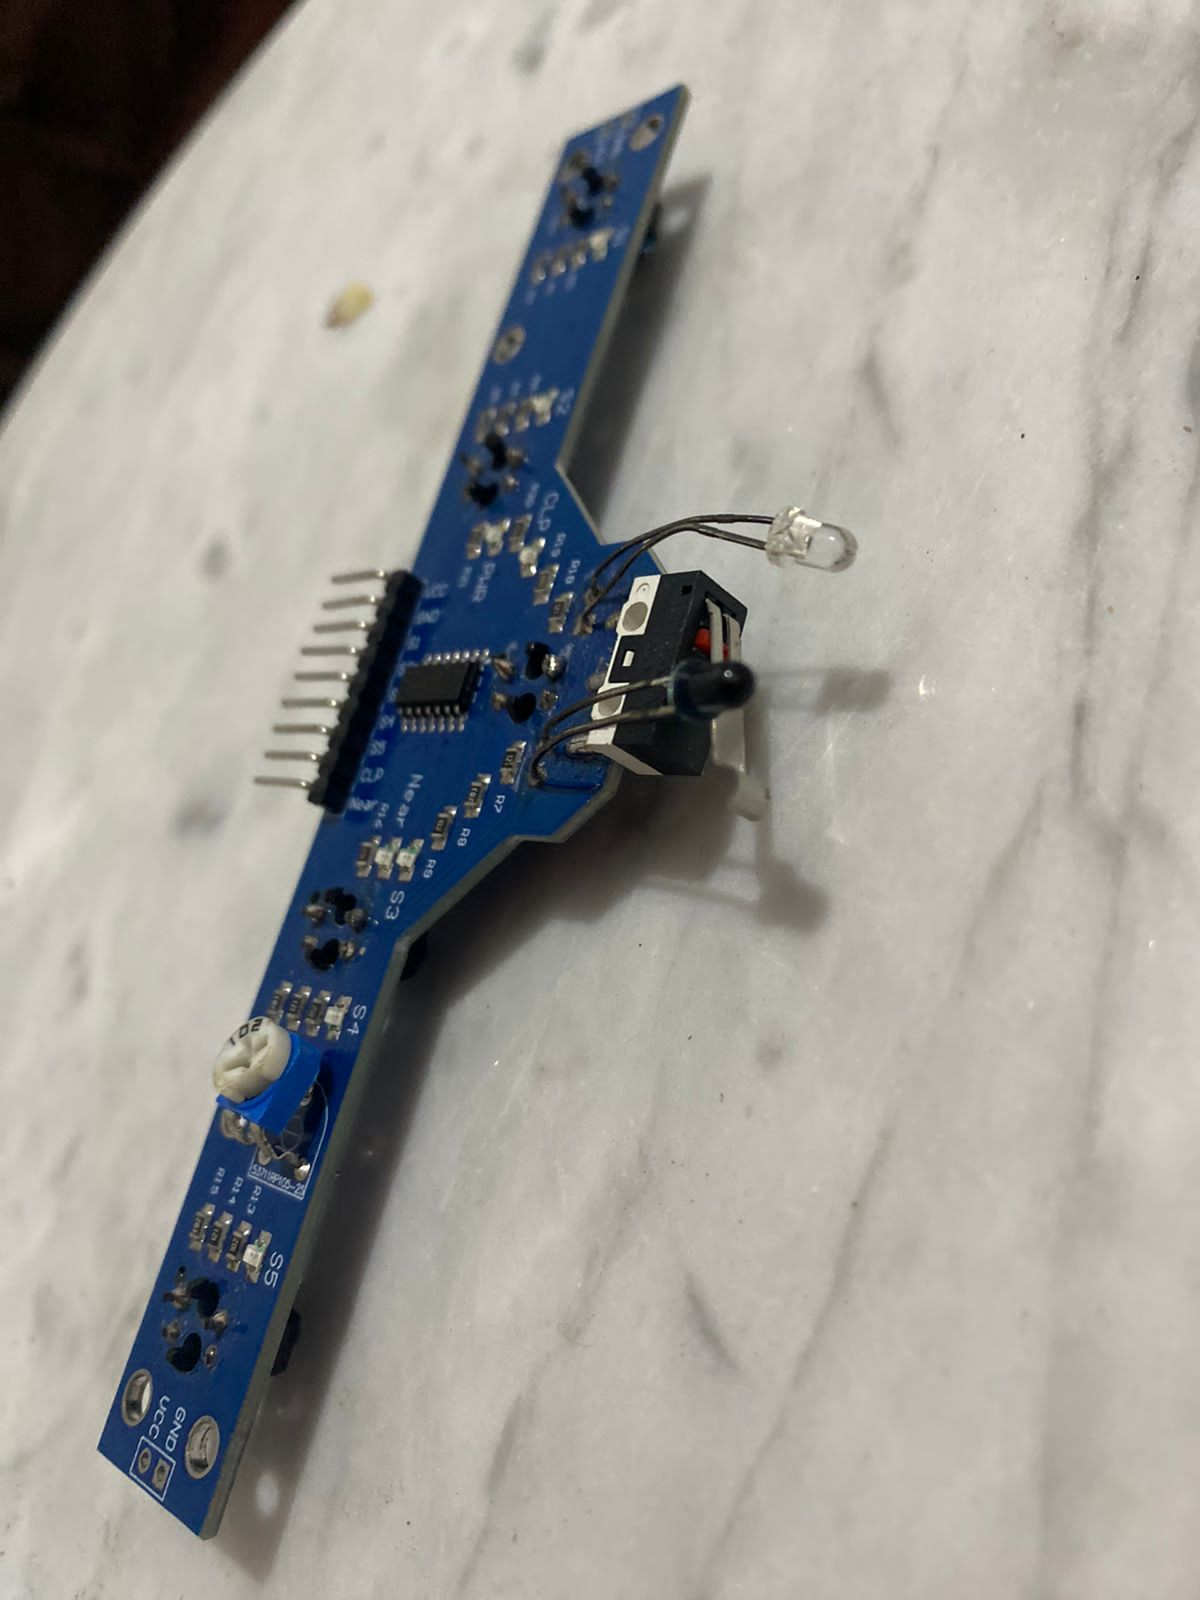Capteur-IR-5 Voies: (98, 74, 868, 1556)
